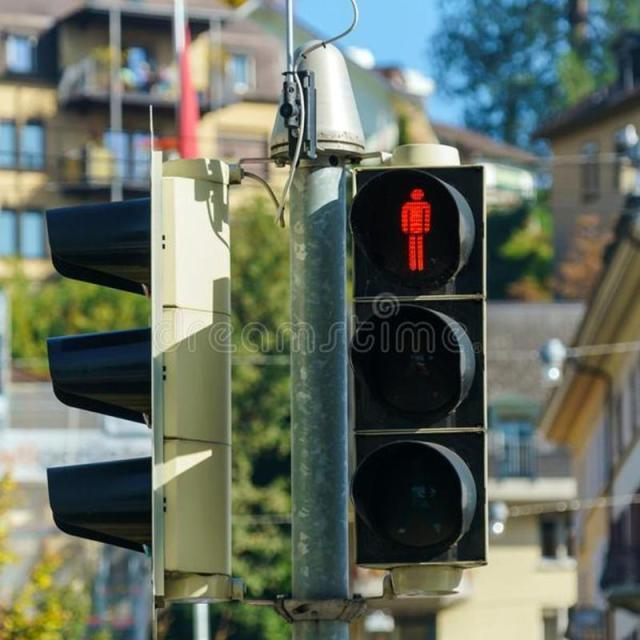red-crossing: (394, 185, 432, 274)
